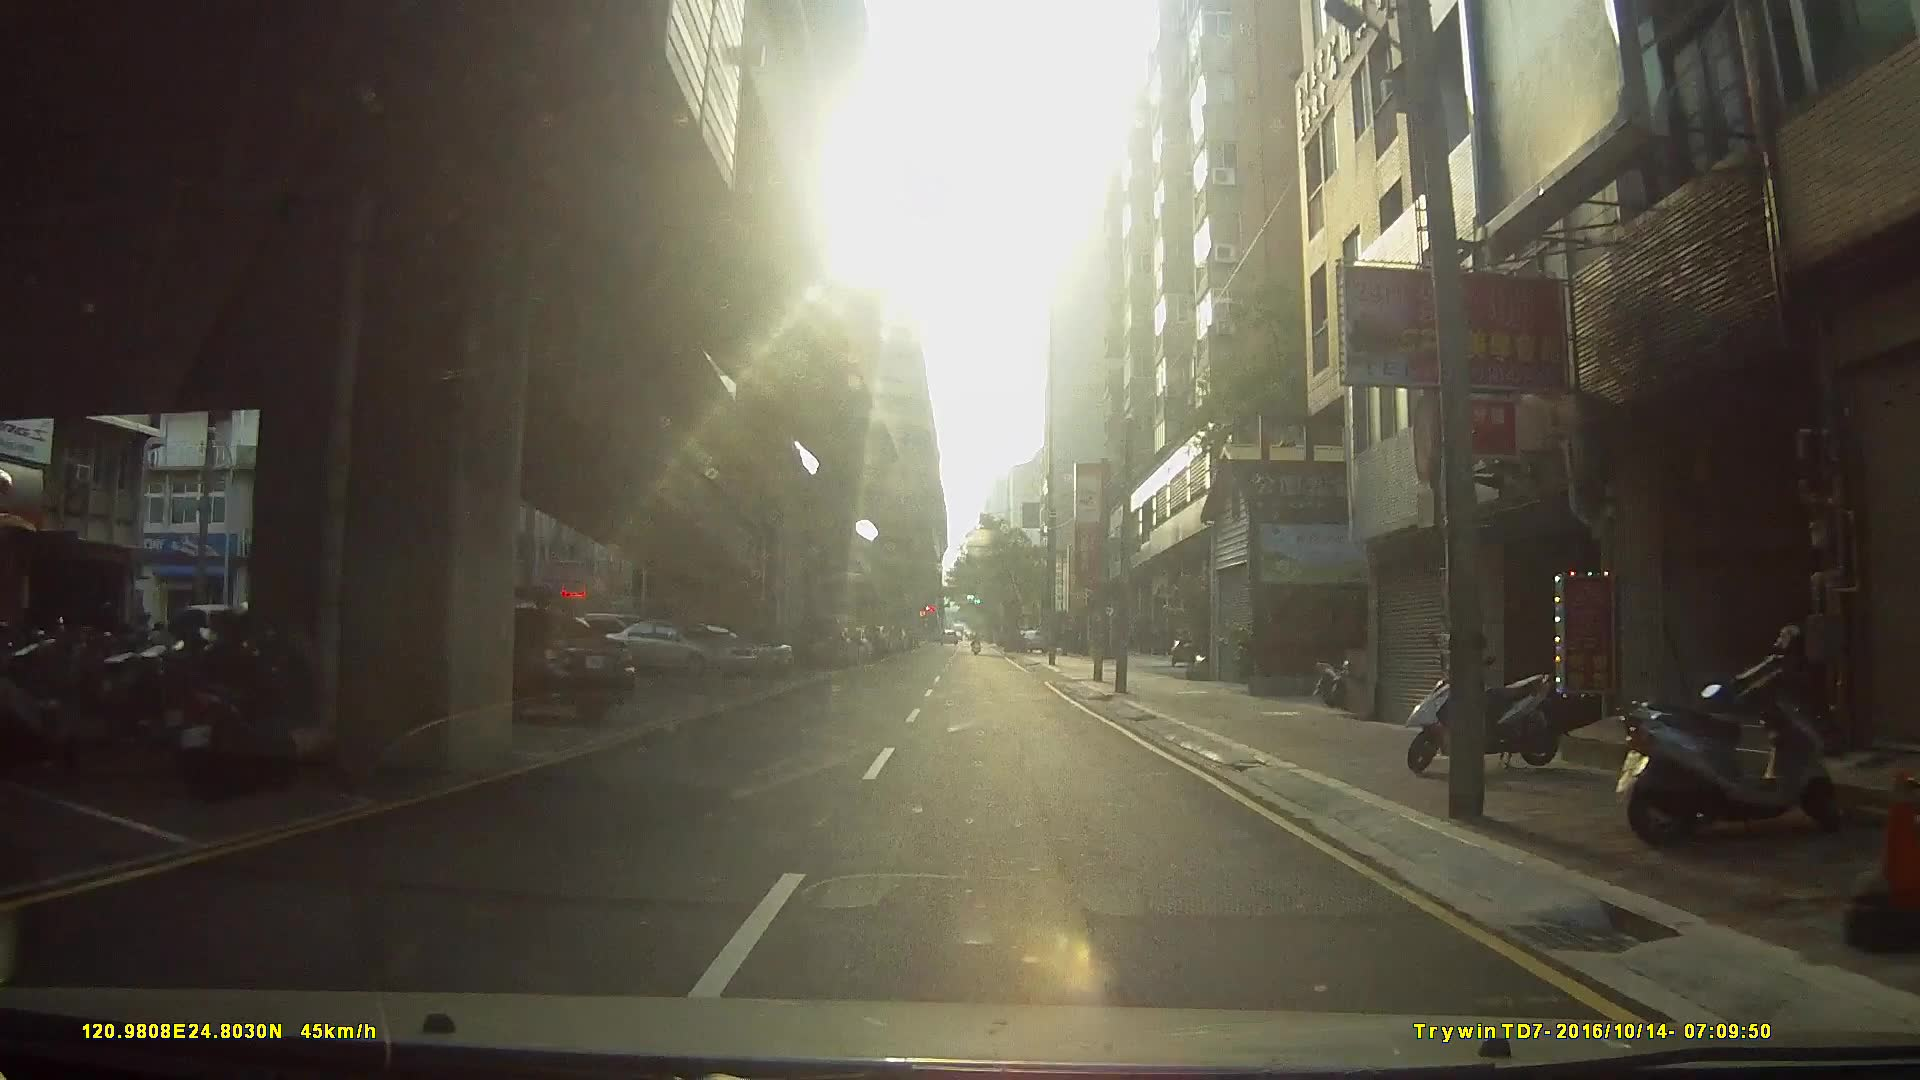vehicle: (425, 609, 636, 724), (603, 620, 760, 679)
